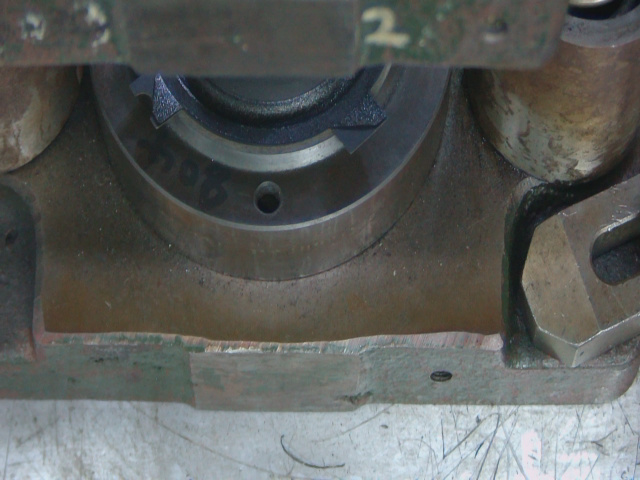HX3: (328, 99, 398, 161)
